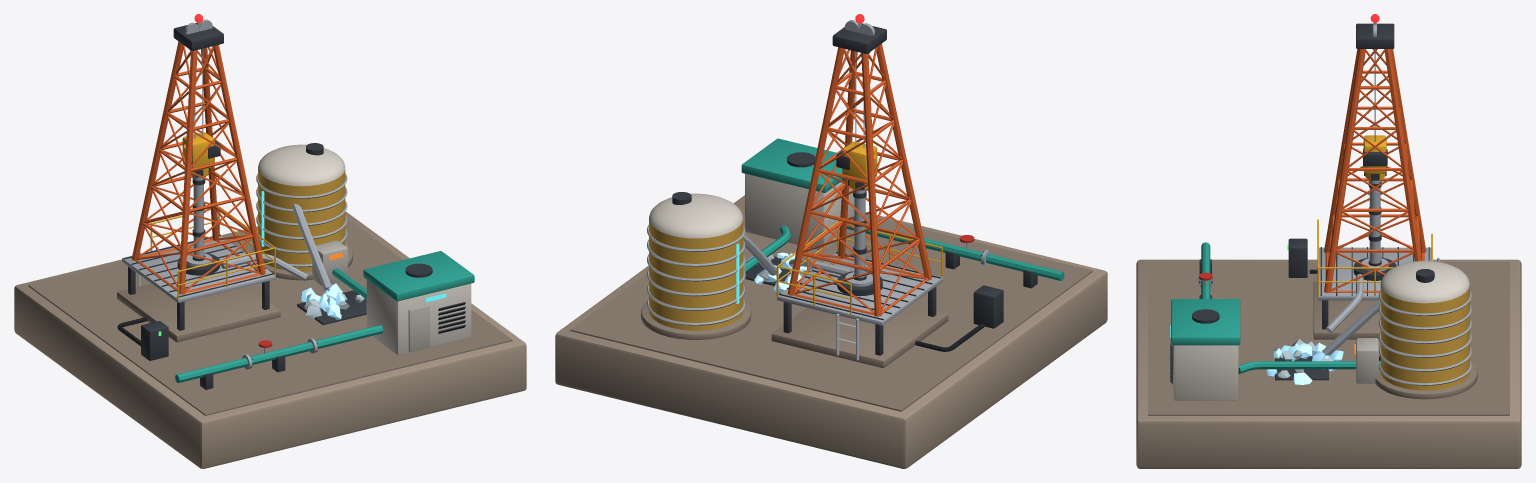
Rendered from ice_drill.glb.
3 renders of one model, left to right at view 1: azimuth 30°, elevation 25°; view 2: azimuth 150°, elevation 25°; view 3: azimuth 270°, elevation 25°, orthographic. The views are drawn at different scales.
Visible parts, largest first — view 1: ice_drill, spin_drill_string.001; view 2: ice_drill, spin_drill_string.001; view 3: ice_drill, spin_drill_string.001.
Part boxes in pixels (<box>): ice_drill: <box>14,14,526,468</box>; spin_drill_string.001: <box>191,168,209,261</box>; ice_drill: <box>555,14,1107,468</box>; spin_drill_string.001: <box>848,180,868,280</box>; ice_drill: <box>1136,14,1521,468</box>; spin_drill_string.001: <box>1364,172,1386,266</box>.
Bounding box in the file's own units: 5 × 5.02 × 5.
